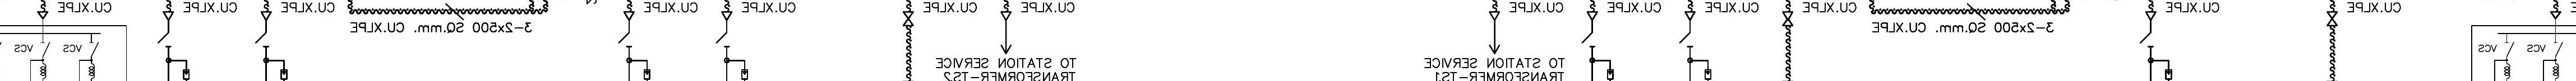terminator_single: (260, 10, 273, 21), (623, 10, 636, 21), (999, 10, 1012, 21), (1585, 10, 1599, 21), (1684, 10, 1697, 21), (2144, 10, 2157, 21), (163, 10, 174, 21), (721, 10, 733, 21), (1488, 10, 1500, 21), (36, 10, 49, 20), (2550, 10, 2561, 20)
terminator_splicing_kits: (902, 12, 915, 26), (2326, 12, 2338, 26), (1782, 12, 1794, 26)
